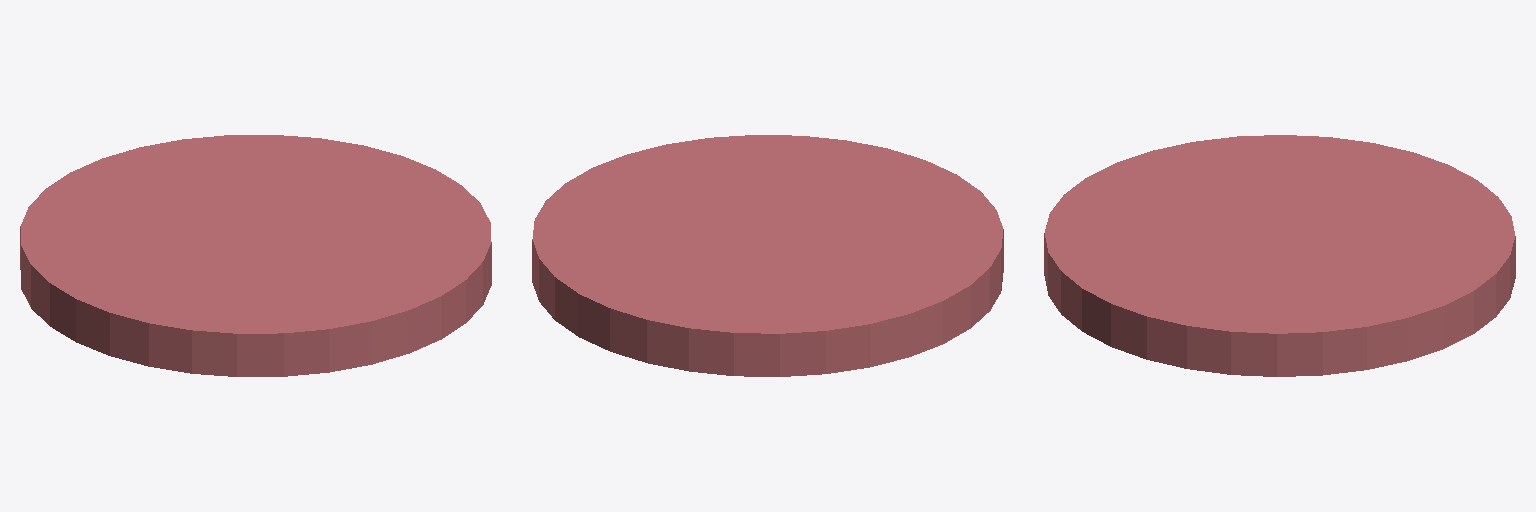
URDF robot description (Interference):
<?xml version="1.0"?>
<robot name="Interference">
  <link name="baseLink">
    <inertial>
      <origin xyz="0.0 0.0 0.0" rpy="0.0 0.0 0.0"/>
      <inertia ixx="0.0" ixy="0.0" ixz="0.0" iyy="0.0" iyz="0.0" izz="0.0"/>
      <mass value="0"/>
    </inertial>
    <visual>
      <origin xyz="0.0 0.0 0.0" rpy="0.0 0.0 -0.7985490419243921"/>
      <geometry>
        <cylinder radius="0.04932680025940682" length="0.01"/>
      </geometry>
      <material name="color">
        <color rgba="0.7838877821418979 0.482883984362503 0.500173753252833 1.0"/>
      </material>
    </visual>
  </link>
</robot>

--- What the picture shows (computed from the rendered views, not written in the file) ---
3 views of the same robot in one strip: view 1: azimuth 30°, elevation 25°; view 2: azimuth 150°, elevation 25°; view 3: azimuth 270°, elevation 25° (orthographic).
Model Interference with 1 links and 0 joints (none), rooted at baseLink, posed all joints at 0.
Visible links, largest first — view 1: baseLink; view 2: baseLink; view 3: baseLink.
Boxes of the visible links, x1,y1,x2,y2 form: baseLink: (20, 135, 491, 376); baseLink: (532, 135, 1003, 376); baseLink: (1044, 135, 1515, 376).
Size in the robot's own frame: 0.0986 by 0.0986 by 0.01 metres.
Geometry: primitives only (box / cylinder / sphere), no mesh files.